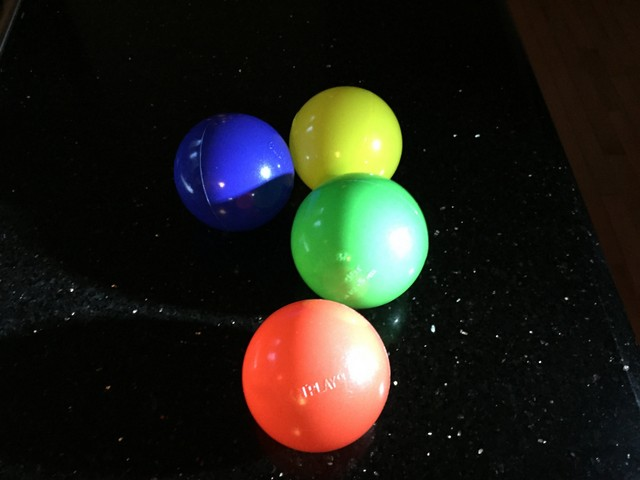ball: (176, 113, 296, 230)
